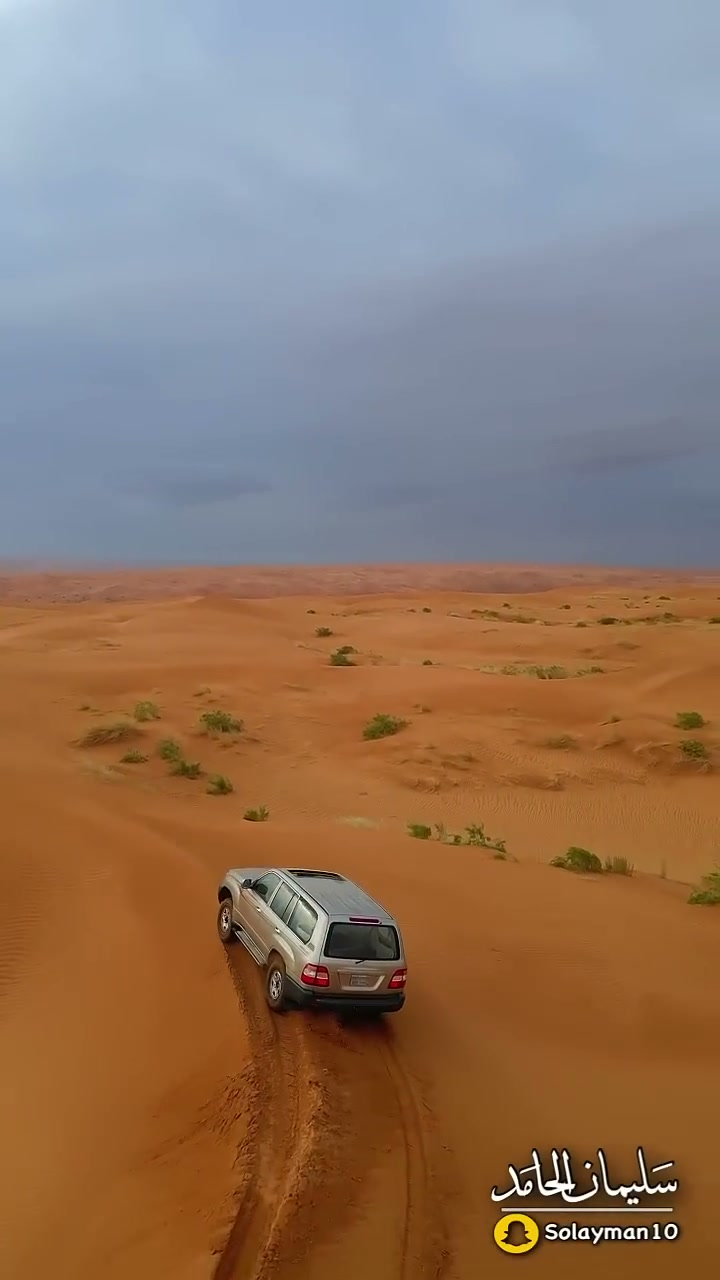vehicle_track: (214, 947, 448, 1279), (214, 946, 332, 1279), (315, 1020, 450, 1279)
